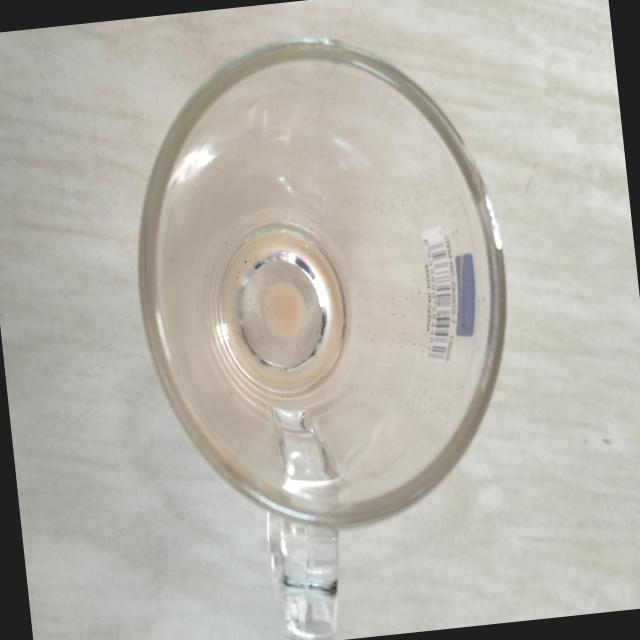glass-VX4N: (110, 14, 543, 640)
